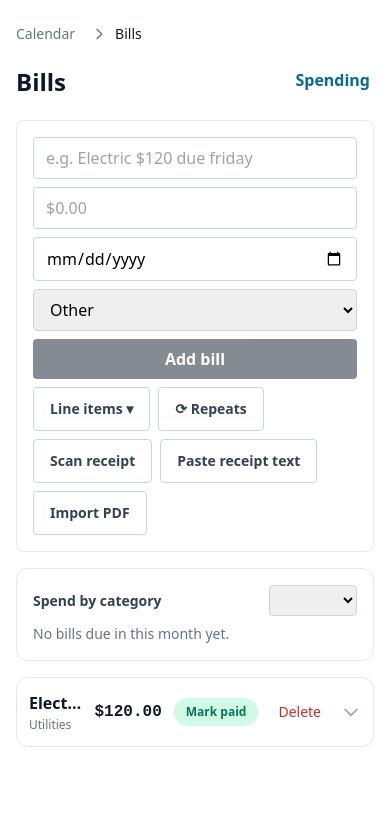
Test case: bill detail row (storage-free, issue 010) › collapses again on a second toggle
Click the button named "Show details for Electric": (351, 712) [341, 690, 361, 734]
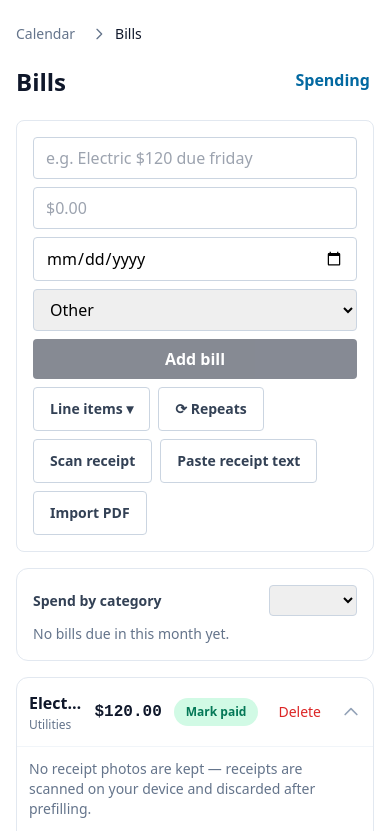
Click the button named "Hide details for Electric": (351, 712) [341, 690, 361, 734]
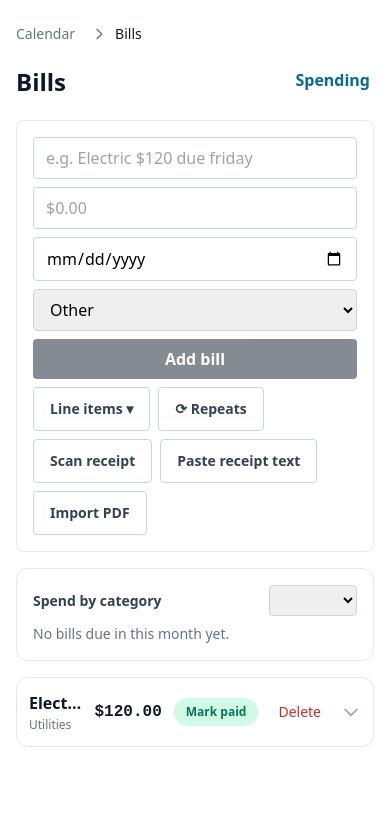
Expected: the text "scanned on your device and discarded" is gone
